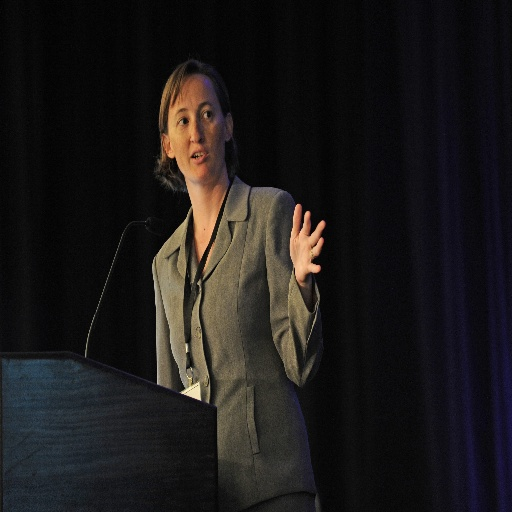hand: (291, 208, 327, 274)
